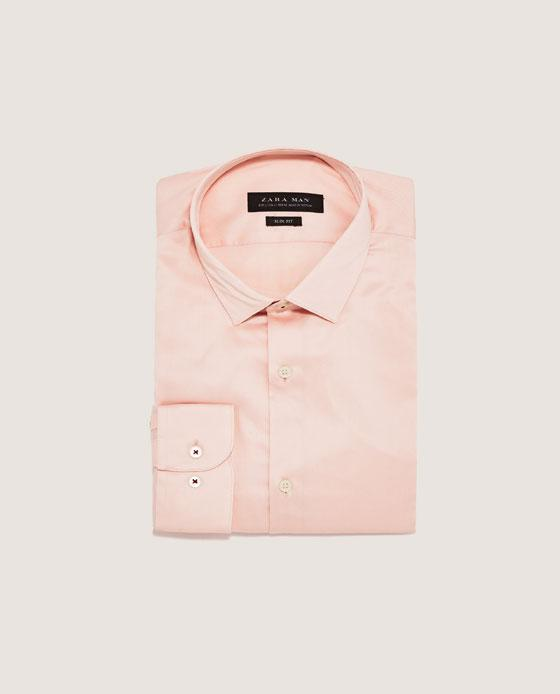teeshirt: (140, 145, 428, 547)
